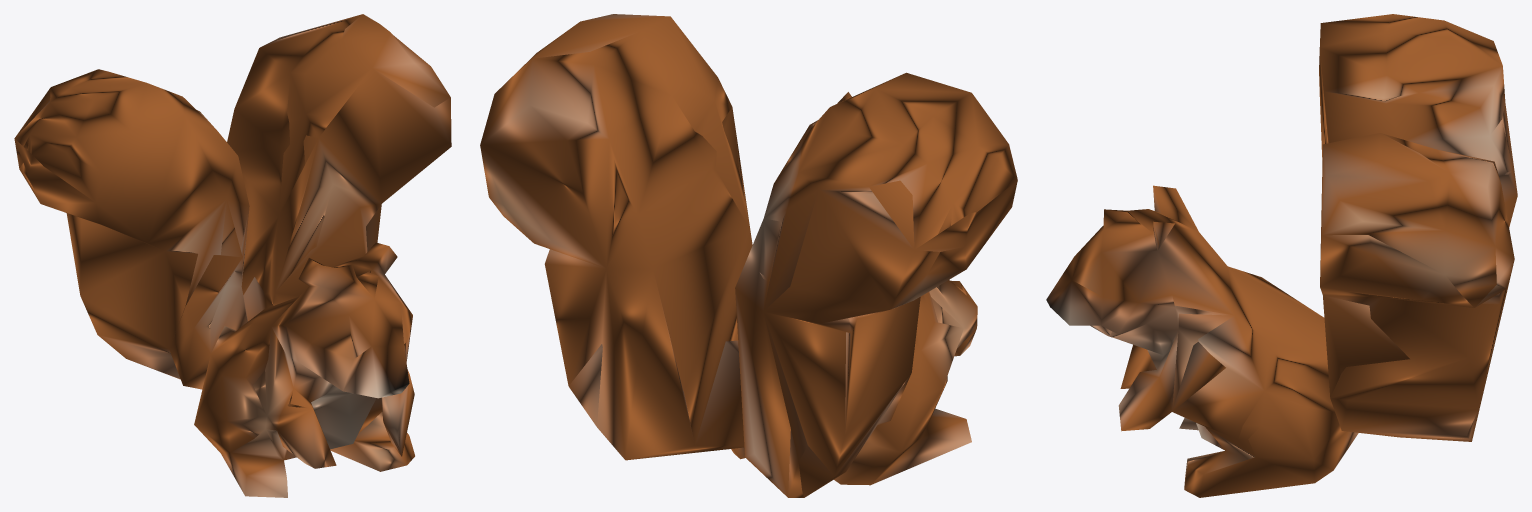
The model's file is gen3d-squirrel-lod1.glb.
The picture shows the model from 3 angles, left to right: view 1: azimuth 30°, elevation 25°; view 2: azimuth 150°, elevation 25°; view 3: azimuth 270°, elevation 25°; orthographic projection. The views are drawn at different scales.
Visible parts, largest first — view 1: part_0; view 2: part_0; view 3: part_0.
Boxes of the visible parts, <box> form: part_0: <box>14,14,451,497</box>; part_0: <box>480,14,1017,497</box>; part_0: <box>1046,14,1517,497</box>.
Size of the model in its own units: 1.1 by 0.9888 by 1.13.
